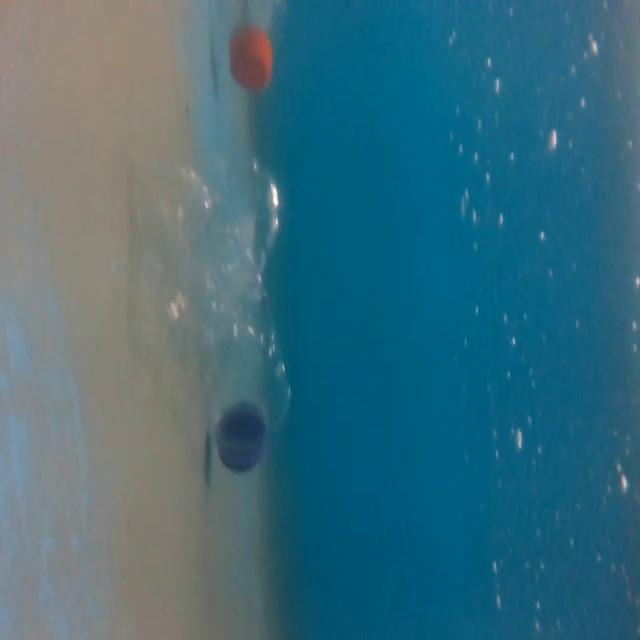plastic bottle: (151, 137, 302, 474), (201, 1, 300, 89)
